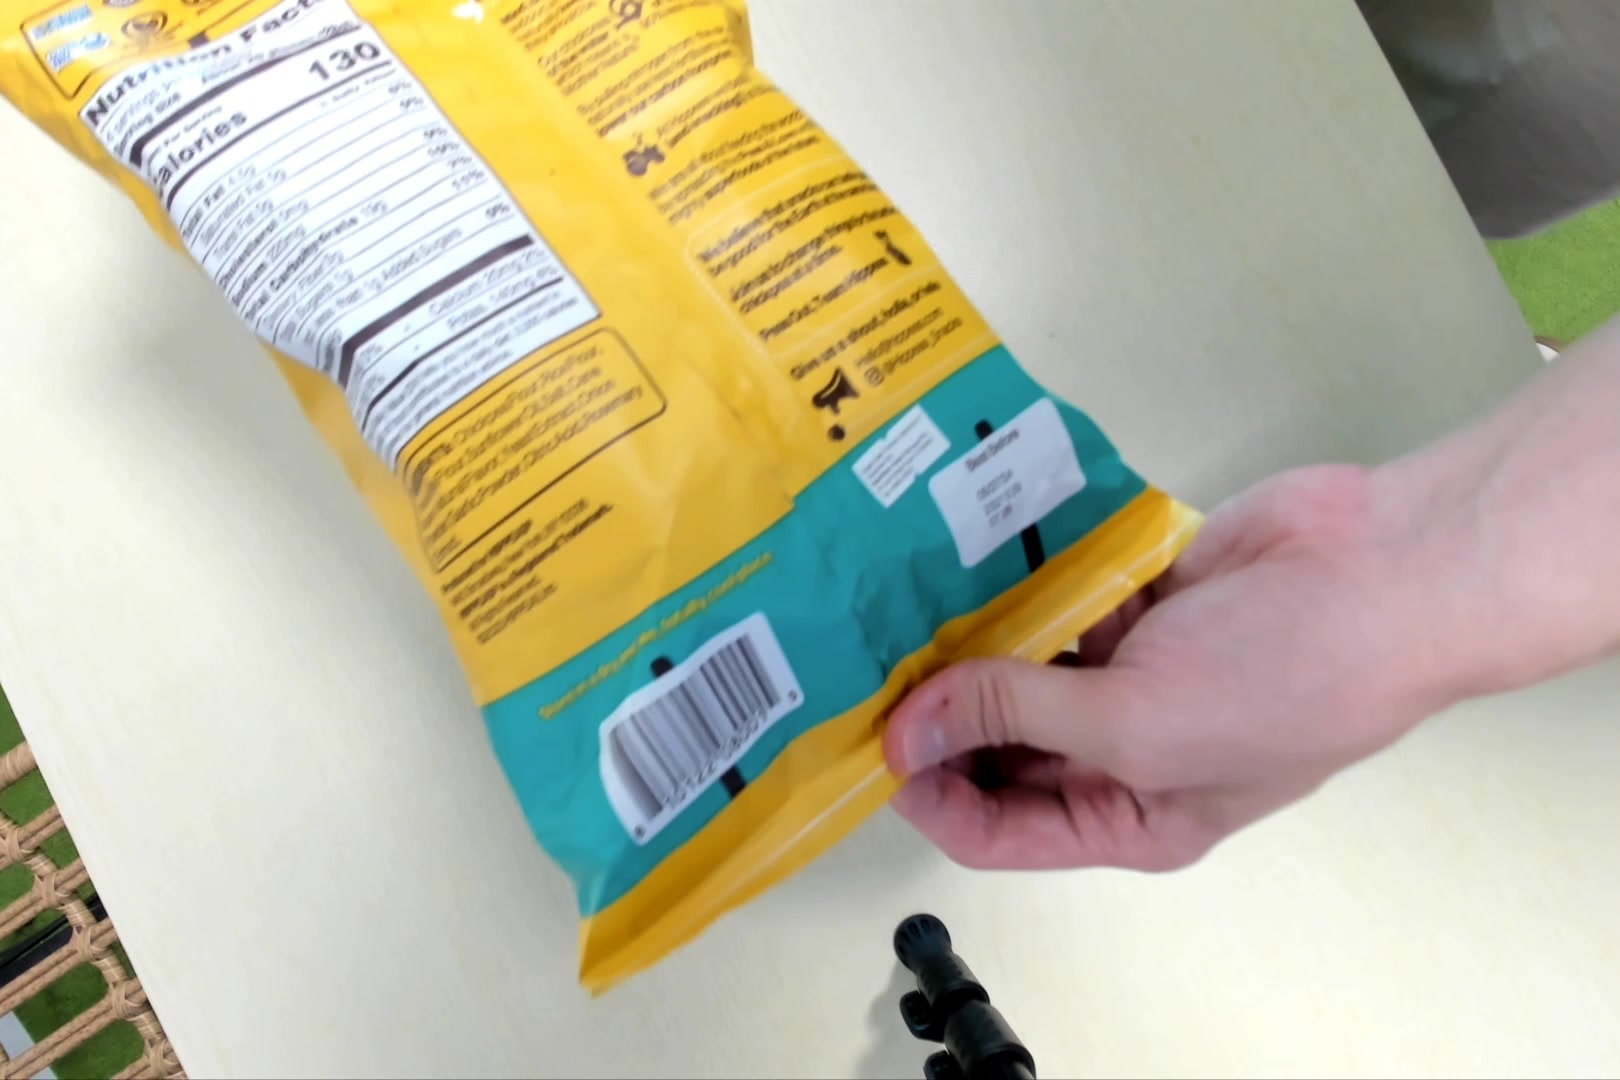PotatoChipsKeropok_100-199g_NonHalal_NonHealthy: (16, 6, 1193, 990)
